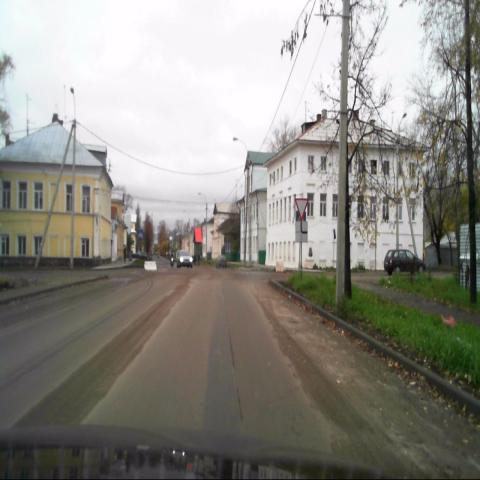8_13: (295, 221, 307, 242)
